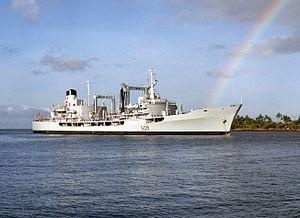warship: (29, 66, 247, 137)
